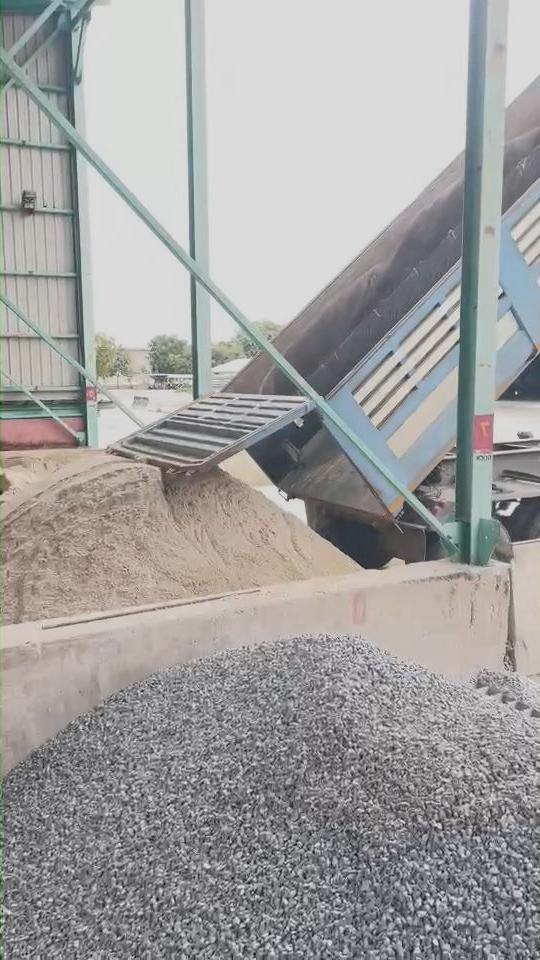gravel: (4, 636, 540, 959), (475, 668, 540, 717)
sand: (3, 453, 358, 622), (3, 448, 104, 497), (222, 451, 268, 486)
